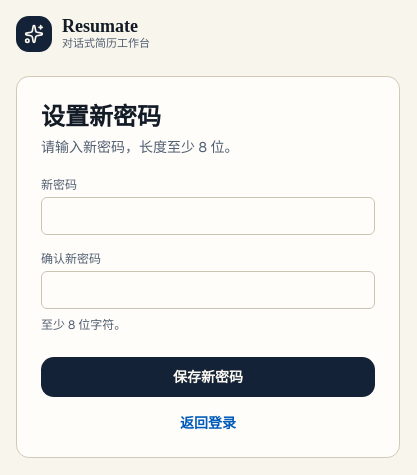
Test: ResetPasswordPage › StrictMode 双挂载下一次性令牌只发一次请求且提交结果
The image size is (417, 475).
In the password field labelled "新密码": {"x": 208, "y": 216} [41,197,375,235], type "new-password-2"
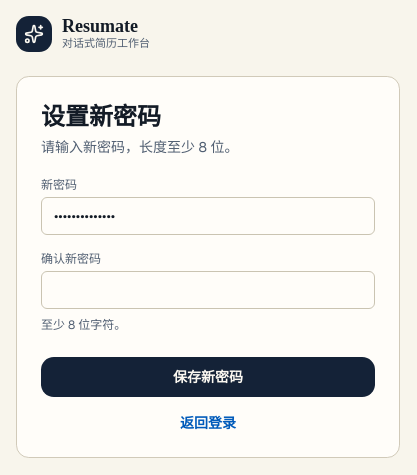
In the password field labelled "确认新密码": {"x": 208, "y": 290} [41,271,375,309], type "new-password-2"
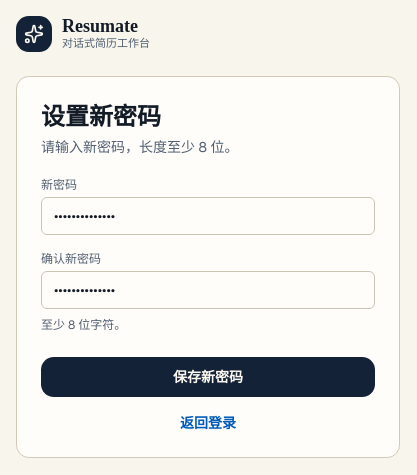
Click the button "保存新密码": {"x": 208, "y": 377} [41,357,375,397]
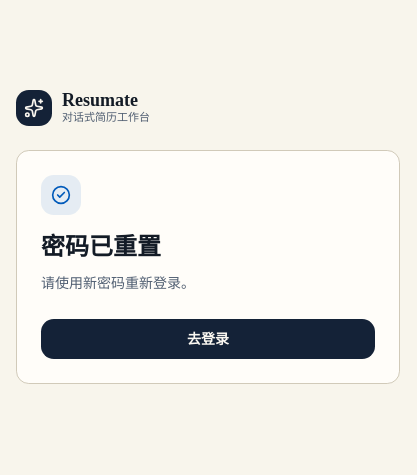
Expected: the heading "密码已重置" is shown, [41,234,161,260]
